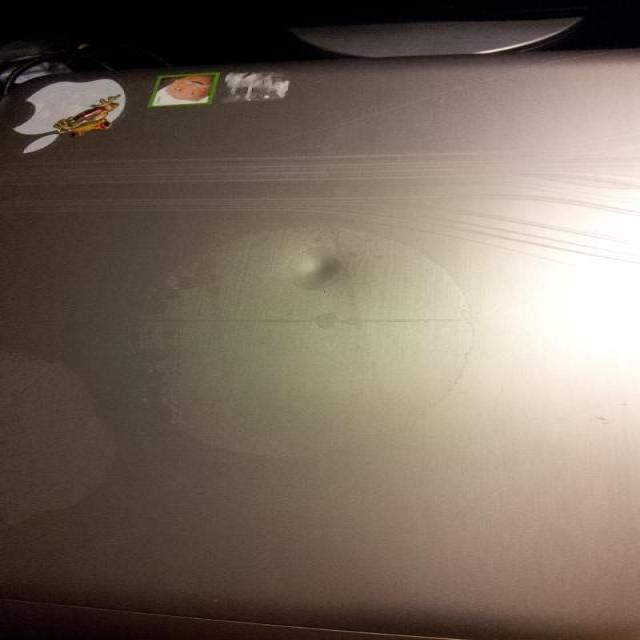dents: (265, 247, 367, 298)
